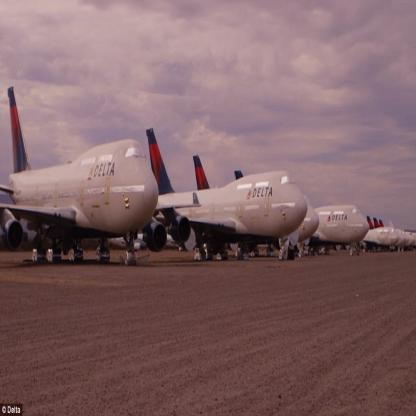CIV_Plane: (0, 76, 160, 276), (144, 118, 310, 262), (314, 199, 370, 250)
